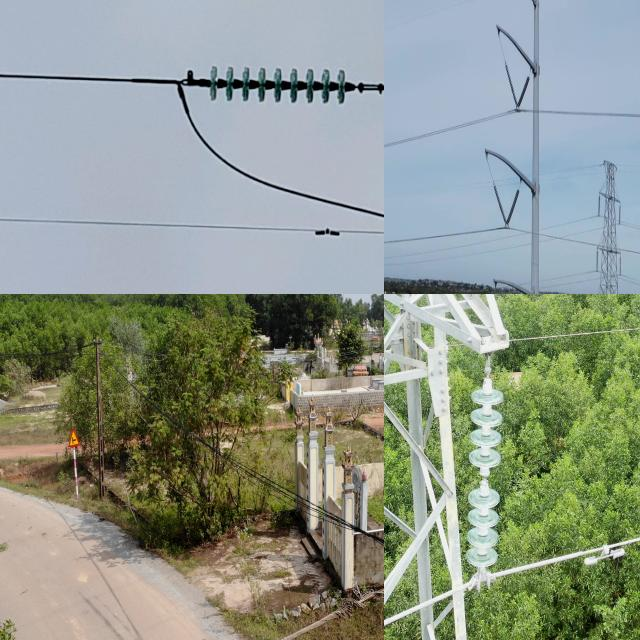杆塔: (384, 294, 514, 640), (575, 150, 630, 294)
正常电缆: (384, 527, 640, 631)
正常绝缘子: (183, 56, 363, 116), (461, 358, 506, 590), (497, 50, 523, 117), (485, 172, 512, 235), (501, 179, 525, 240), (509, 66, 535, 121), (615, 199, 624, 228), (596, 190, 602, 223), (594, 242, 600, 275), (617, 251, 624, 279)
电缆破损: (317, 532, 384, 640)
绝缘子破损: (478, 470, 492, 490)
